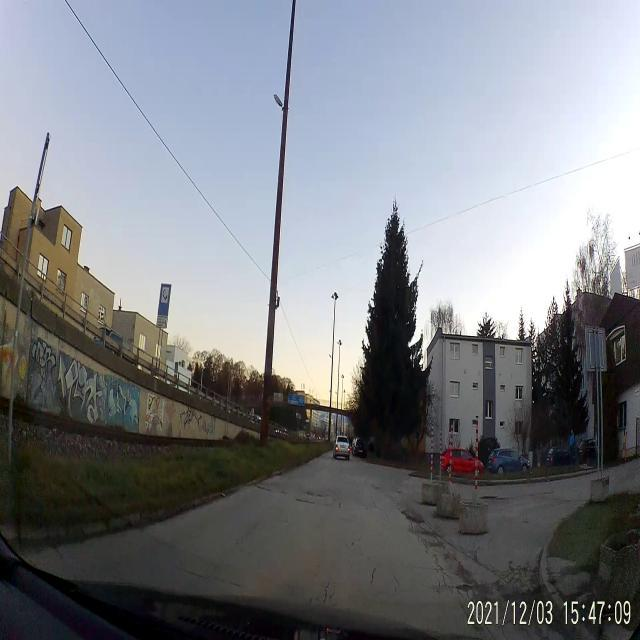Pothole: (402, 499, 427, 528)
